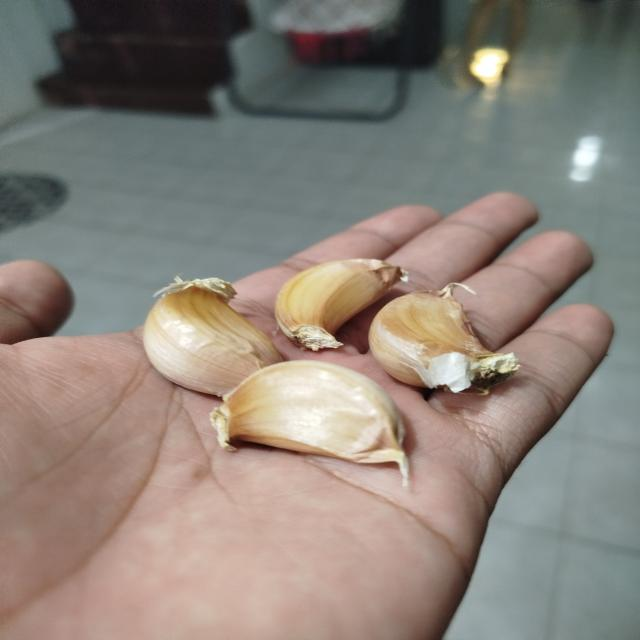garlic: (209, 358, 410, 488), (368, 282, 520, 396), (142, 276, 283, 398), (273, 257, 409, 352)
